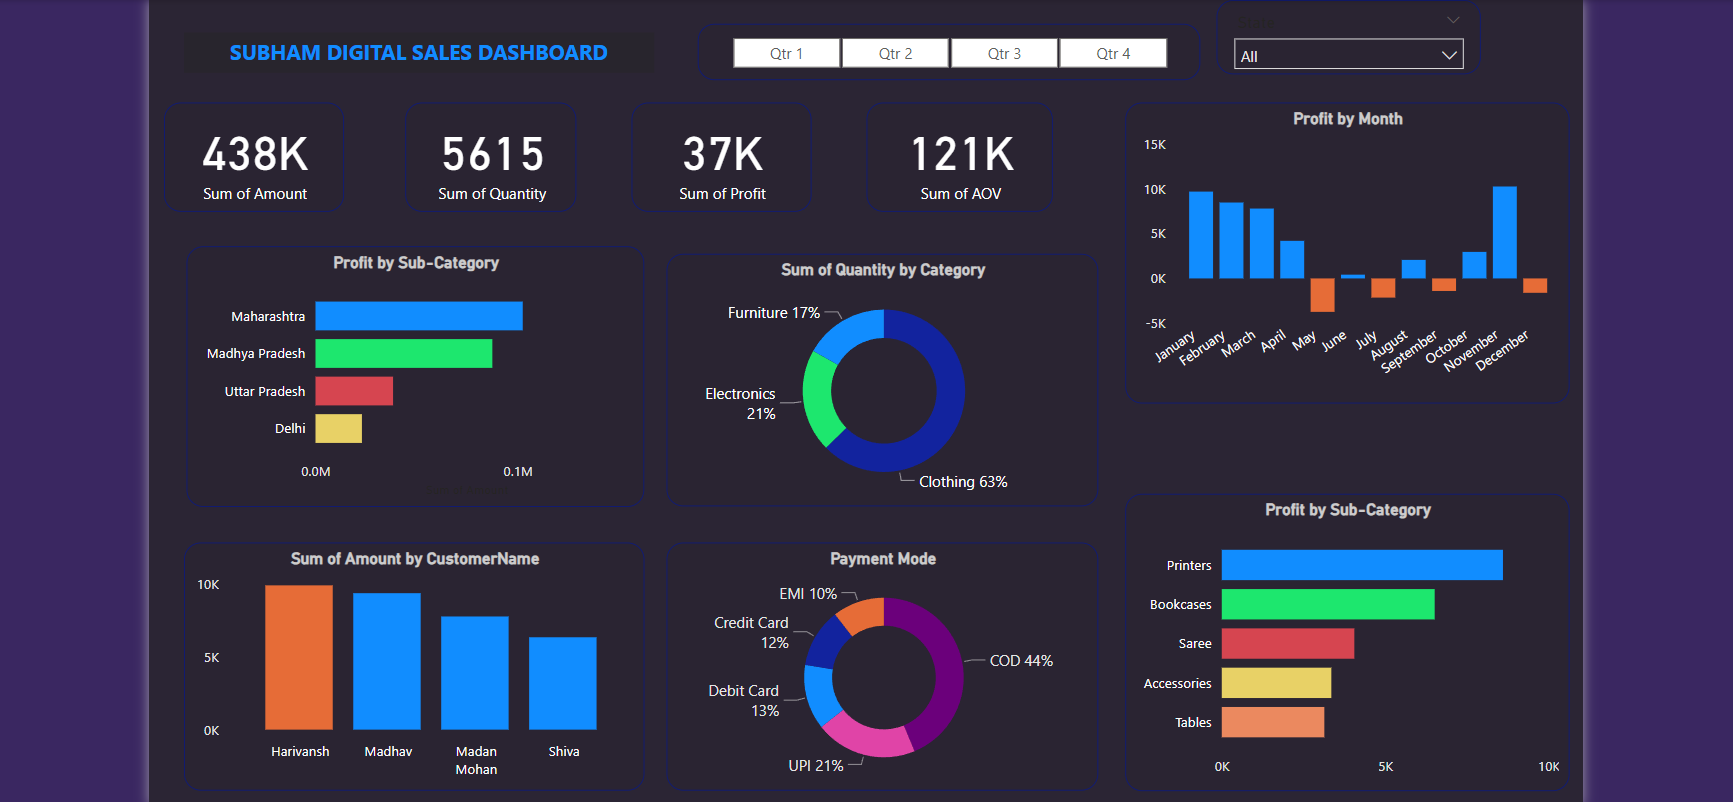

This screenshot's page, from the dashboard's own definition file:
{"tool":"powerbi","page":{"name":"Page 1","canvas":[1280,720],"ordinal":0},"visuals":[{"type":"textbox","box":[31.4,28.9,419.7,36.2],"z":0},{"type":"columnChart","title":"Profit by Month","fields":{"Category":["Orders.Order Date.Variation.Date Hierarchy.Month"],"Y":["Details.Profit"]},"box":[872,91.7,396.8,268.9],"z":1},{"type":"barChart","title":"Profit by Sub-Category","fields":{"Y":["Details.Profit"],"Category":["Details.Sub-Category"]},"box":[872,441.4,396.8,265.3],"z":2},{"type":"donutChart","fields":{"Category":["Details.Category"],"Y":["Details.Quantity"]},"box":[461.9,226.7,385.9,225.5],"z":3},{"type":"donutChart","title":"Payment Mode","fields":{"Category":["Details.PaymentMode"],"Y":["Details.Quantity"]},"box":[461.9,484.8,385.9,221.9],"z":4},{"type":"card","fields":{"Values":["Details.Amount"]},"box":[13.3,91.7,160.4,97.7],"z":5},{"type":"card","fields":{"Values":["Details.Quantity"]},"box":[229.1,91.7,153.2,97.7],"z":6},{"type":"card","fields":{"Values":["Details.Profit"]},"box":[430.6,91.7,160.4,97.7],"z":7},{"type":"card","fields":{"Values":["Details.AOV"]},"box":[640.4,91.7,166.4,97.7],"z":8},{"type":"barChart","title":"Profit by Sub-Category","fields":{"Category":["Orders.State"],"Y":["Details.Amount"]},"box":[33.8,219.5,408.8,232.8],"z":9},{"type":"columnChart","fields":{"Category":["Orders.CustomerName"],"Y":["Details.Amount"]},"box":[31.4,484.8,411.3,221.9],"z":10},{"type":"slicer","fields":{"Values":["Orders.State"]},"box":[952.8,0,236.4,66.3],"z":11},{"type":"slicer","fields":{"Values":["Orders.Order Date.Variation.Date Hierarchy.Quarter"]},"box":[489.6,21.7,448.6,50.7],"z":12}]}

Visuals, with their boxes on the page's 1280x720 design canvas (x1, y1, x2, y2). These are canvas units, not pixel positions in the 1733x802 screenshot, which may show the page scaled, cropped or inside an application window:
textbox: box=[31, 29, 451, 65]
"Profit by Month" columnChart: box=[872, 92, 1269, 361]
"Profit by Sub-Category" barChart: box=[872, 441, 1269, 707]
donutChart - Details.Category x Details.Quantity: box=[462, 227, 848, 452]
"Payment Mode" donutChart: box=[462, 485, 848, 707]
card - Details.Amount: box=[13, 92, 174, 189]
card - Details.Quantity: box=[229, 92, 382, 189]
card - Details.Profit: box=[431, 92, 591, 189]
card - Details.AOV: box=[640, 92, 807, 189]
"Profit by Sub-Category" barChart: box=[34, 220, 443, 452]
columnChart - Orders.CustomerName x Details.Amount: box=[31, 485, 443, 707]
slicer - Orders.State: box=[953, 0, 1189, 66]
slicer - Orders.Order Date.Variation.Date Hierarchy.Quarter: box=[490, 22, 938, 72]
